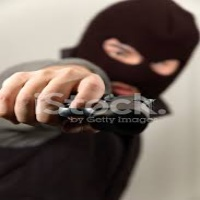ring: (20, 74, 37, 132)
